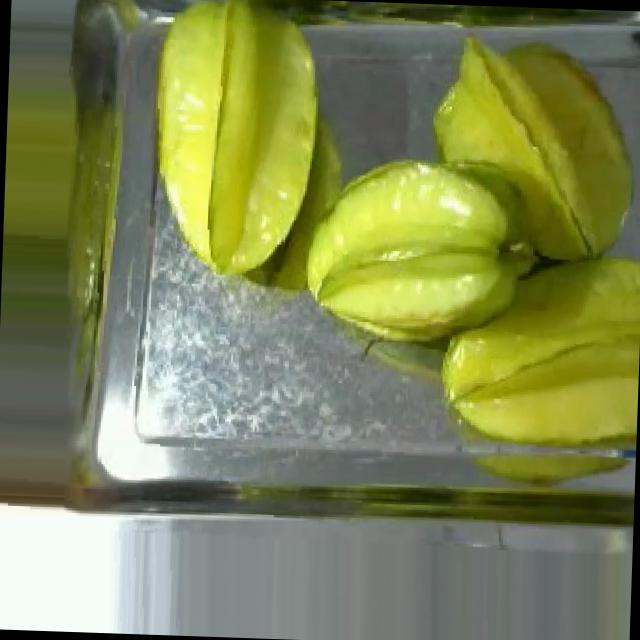fruit: (412, 23, 640, 277), (137, 0, 335, 292), (289, 143, 524, 359), (425, 234, 640, 462), (0, 36, 137, 328)
